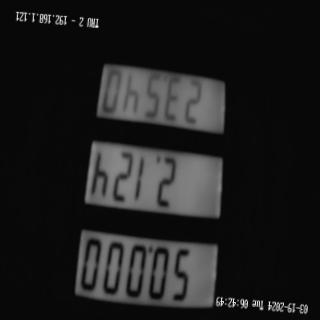screen: (65, 25, 240, 320)
